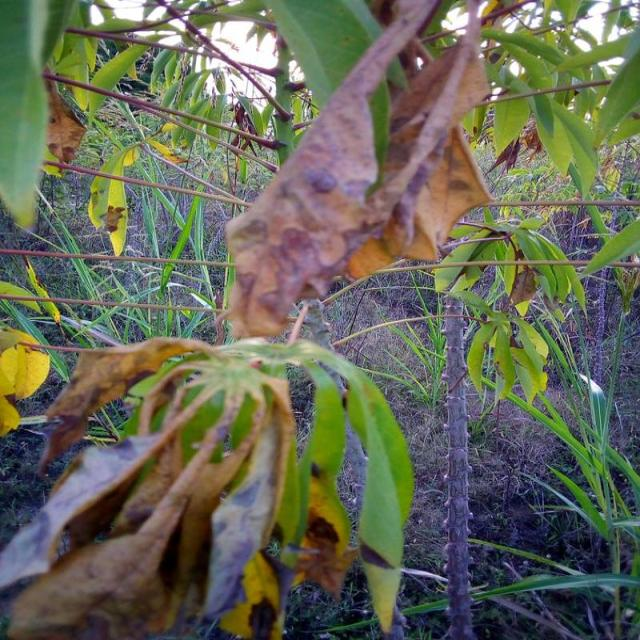cassava leaf: (1, 335, 413, 638), (222, 0, 493, 339)
